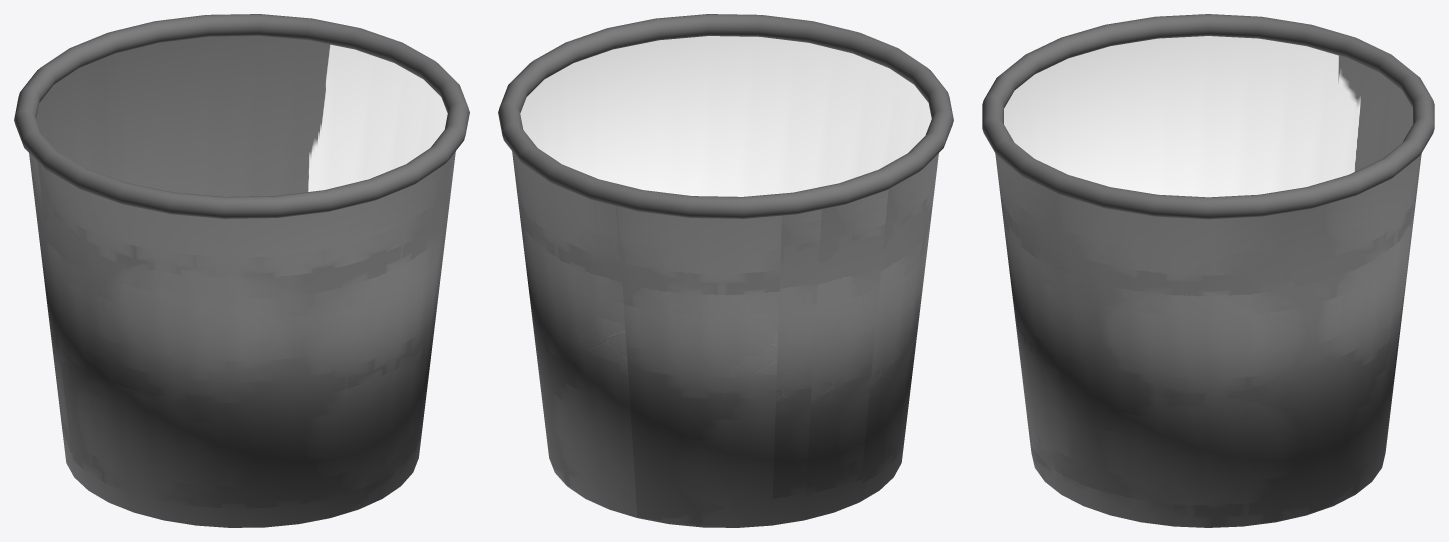
File: Basurero.fbx
The picture shows the model from 3 angles, left to right: view 1: azimuth 30°, elevation 25°; view 2: azimuth 150°, elevation 25°; view 3: azimuth 270°, elevation 25°; orthographic projection.
Parts seen in each view (by area): view 1: Cylinder, Torus; view 2: Cylinder, Torus; view 3: Cylinder, Torus.
Part boxes in pixels (x1=…): Cylinder: x1=29, y1=36, x2=455, y2=527; Torus: x1=14, y1=14, x2=469, y2=218; Cylinder: x1=512, y1=36, x2=938, y2=527; Torus: x1=498, y1=14, x2=953, y2=218; Cylinder: x1=995, y1=36, x2=1421, y2=527; Torus: x1=982, y1=14, x2=1434, y2=219.
Size of the model in its own units: 257 by 216 by 256.
2 materials, 1 textured.
